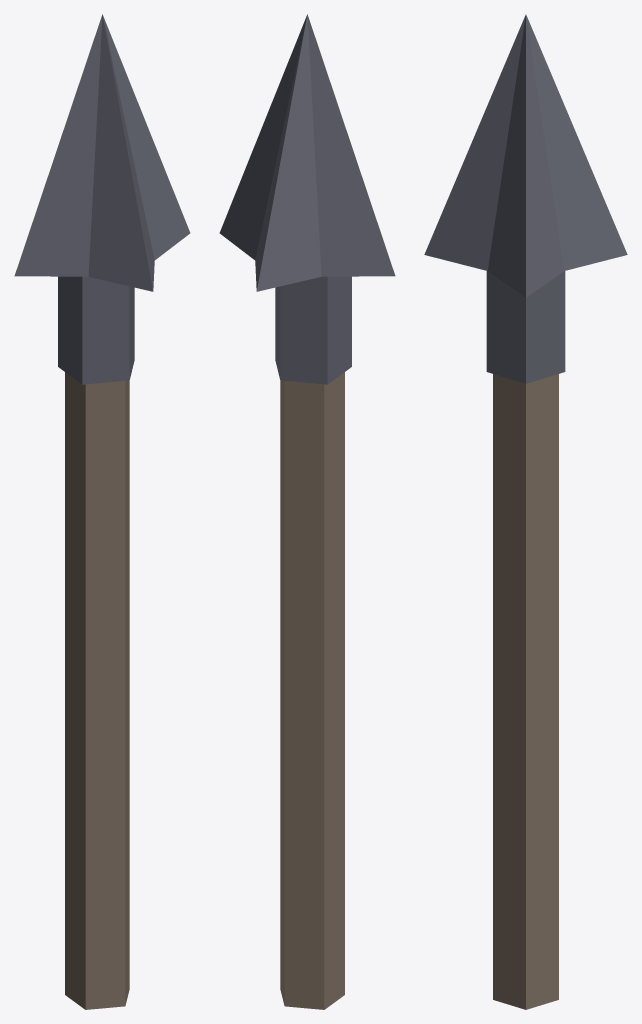
The model's file is _Archers_shells_LVL_1.fbx.
3 renders of one model, left to right at view 1: azimuth 30°, elevation 25°; view 2: azimuth 150°, elevation 25°; view 3: azimuth 270°, elevation 25°, orthographic.
Visible parts, largest first — view 1: Archers_shells_LVL_1; view 2: Archers_shells_LVL_1; view 3: Archers_shells_LVL_1.
Boxes of the visible parts, box(x1,y1,x2,y2) form: Archers_shells_LVL_1: box(14, 14, 190, 1009); Archers_shells_LVL_1: box(219, 14, 395, 1009); Archers_shells_LVL_1: box(424, 14, 627, 1009).
Size of the model in its own units: 45.45 by 242 by 45.45.
